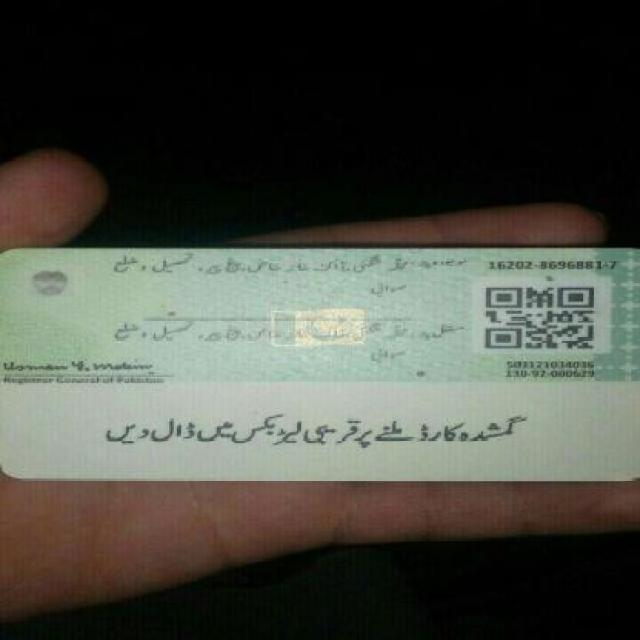Back: (3, 240, 637, 488)
